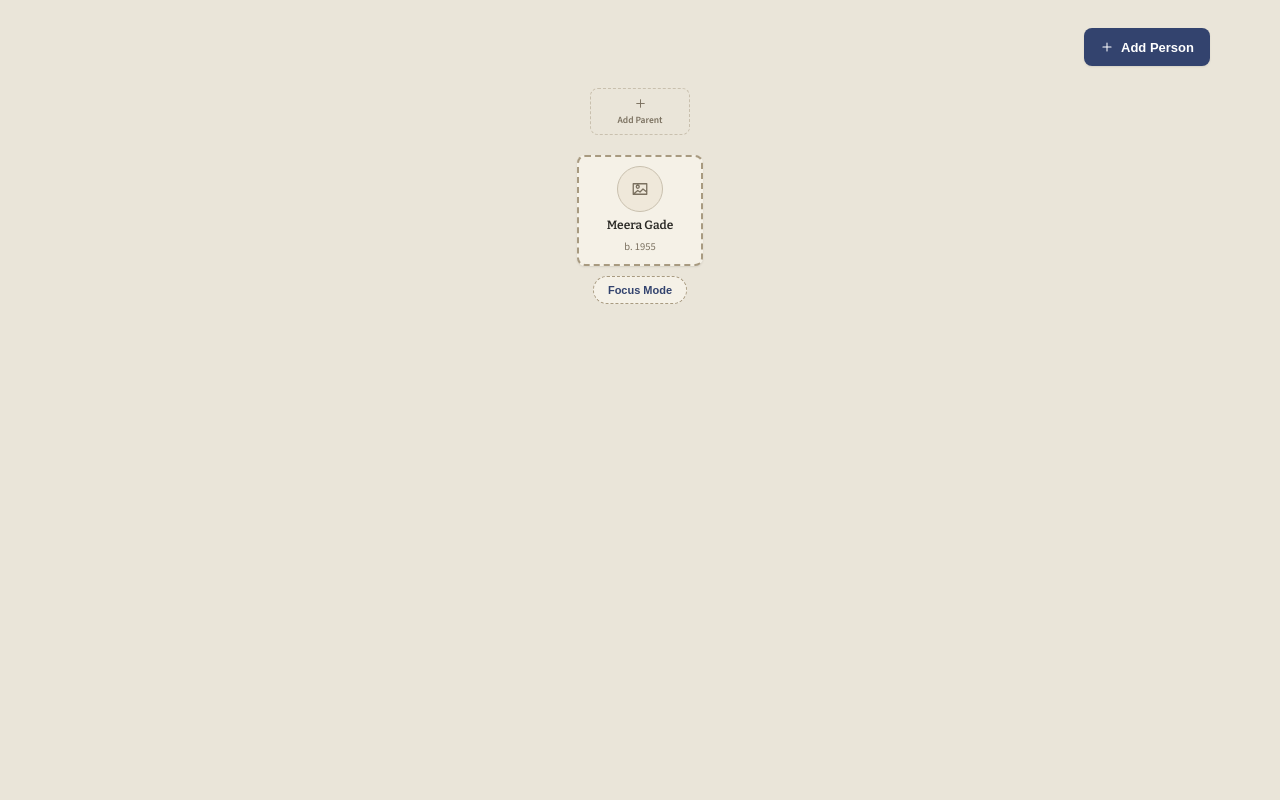
it: canceling the relationship picker returns to the profile, not a stuck state
Click the text "Meera Gade" at {"x": 640, "y": 226}, box [607,218,673,233]
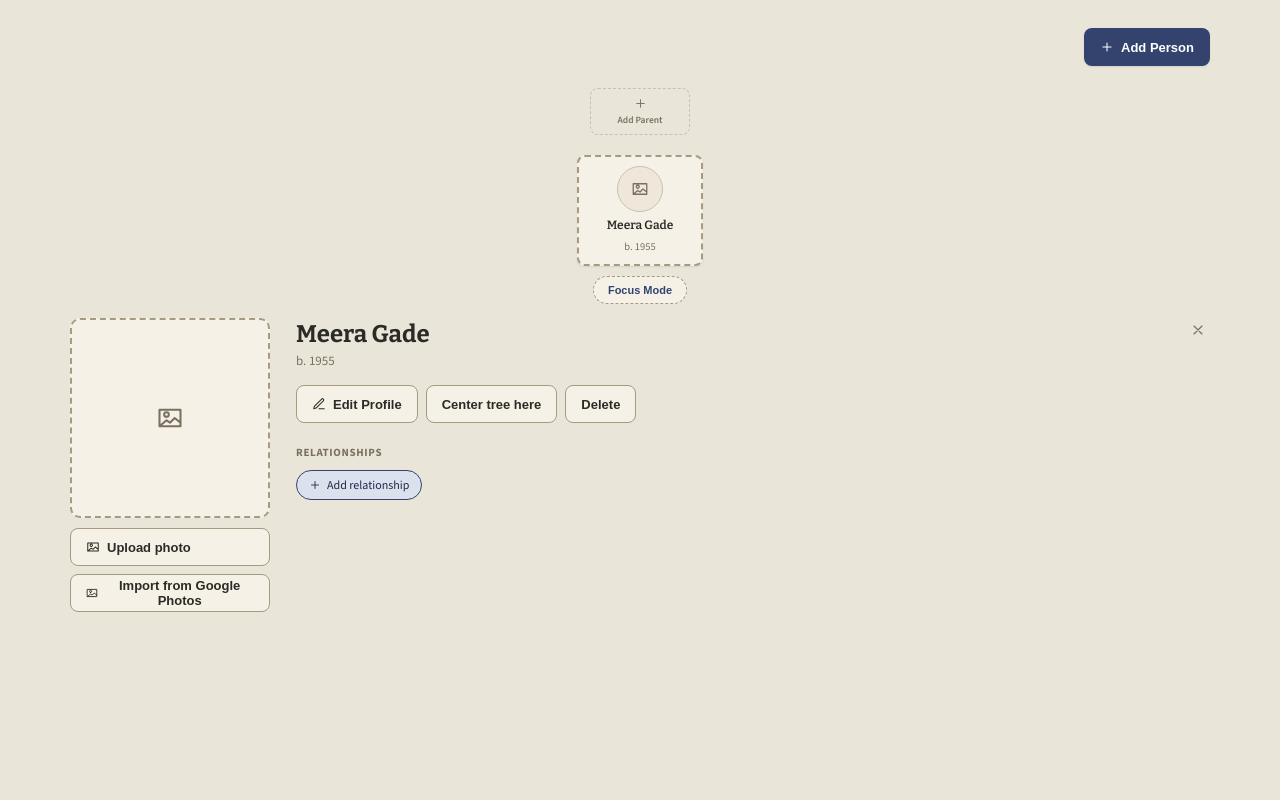
Expected: the text "Add relationship" is shown
Click the text "Add relationship" at {"x": 359, "y": 485}, box [296,470,422,500]
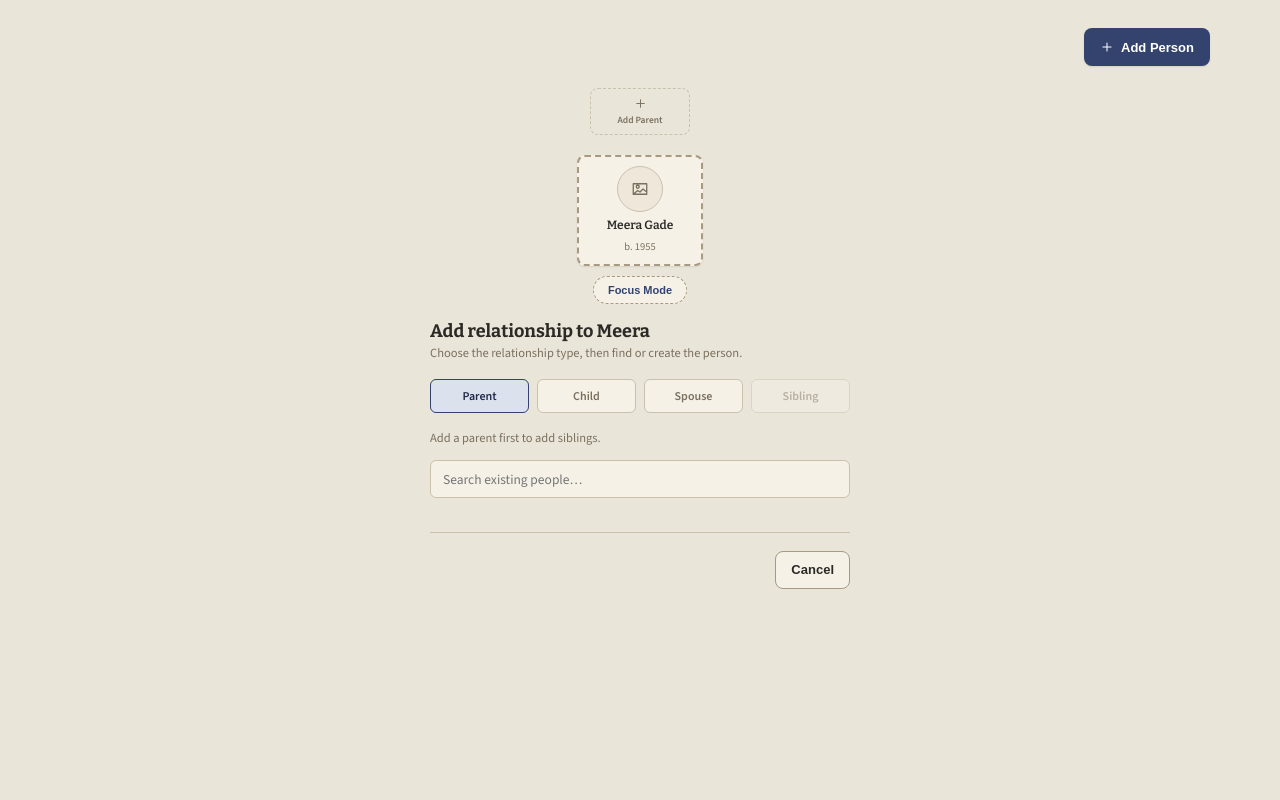
Expected: the text "Add relationship to Meera" is shown, [430,320,650,342]
Click the button "Cancel" at {"x": 813, "y": 570}, box [775,550,850,588]
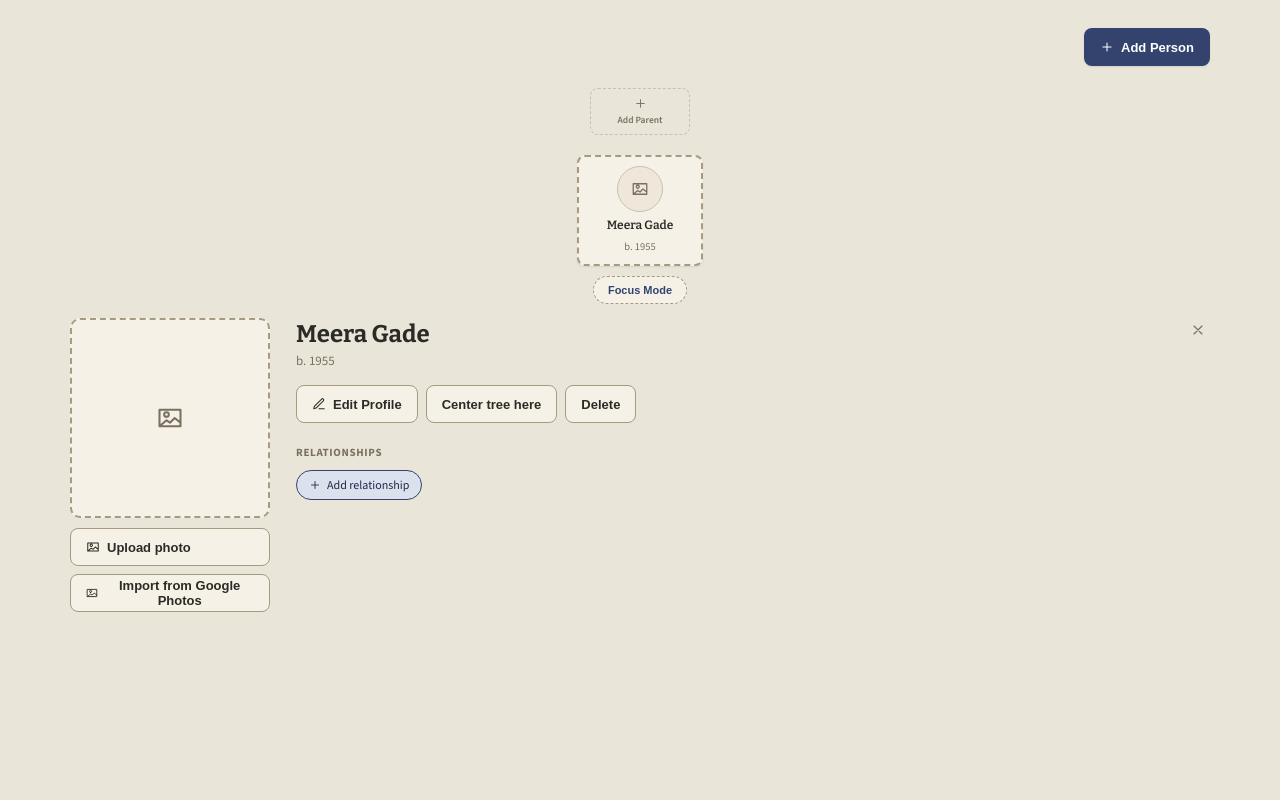
Expected: the text "Add relationship" is shown, [296,470,422,500]
Expected: the text "Add relationship to Meera" is gone
Expected: the button "Edit Profile" is shown, [296,385,418,423]
